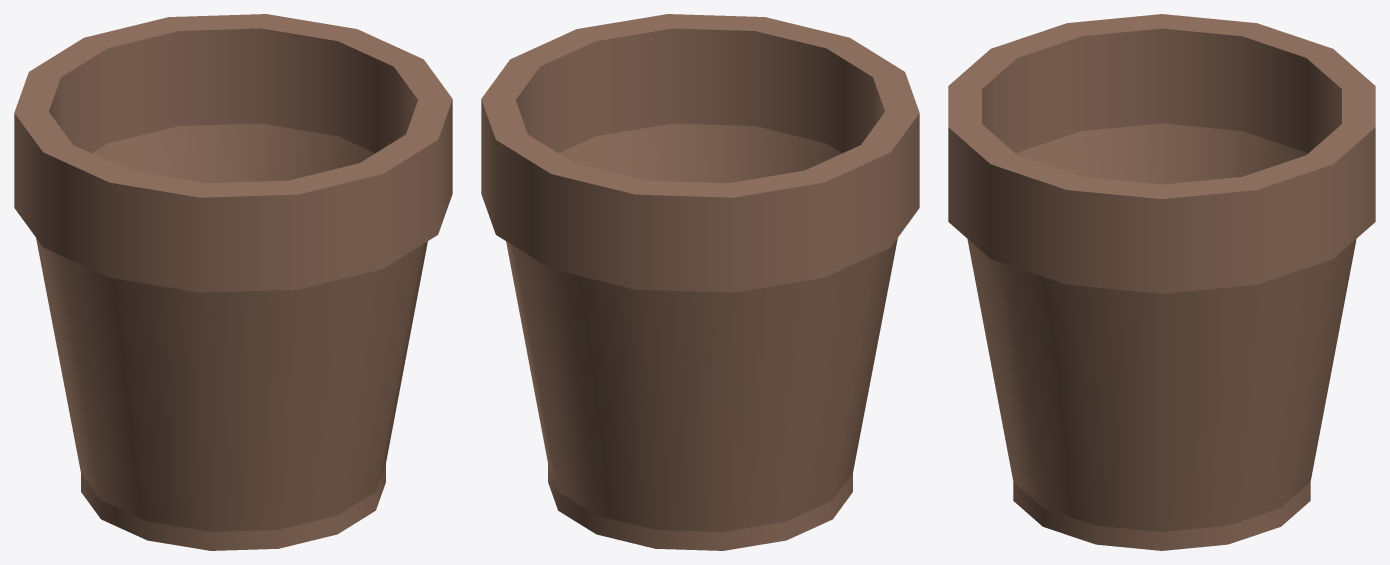
Rendered from Pot.fbx.
The picture shows the model from 3 angles, left to right: view 1: azimuth 30°, elevation 25°; view 2: azimuth 150°, elevation 25°; view 3: azimuth 270°, elevation 25°; orthographic projection.
Visible parts, largest first — view 1: polySurface43; view 2: polySurface43; view 3: polySurface43.
Boxes of the visible parts, x1,y1,x2,y2 form: polySurface43: (14,14,452,550); polySurface43: (481,14,919,550); polySurface43: (948,14,1375,550).
Size of the model in its own units: 0.4005 by 0.3832 by 0.3904.
